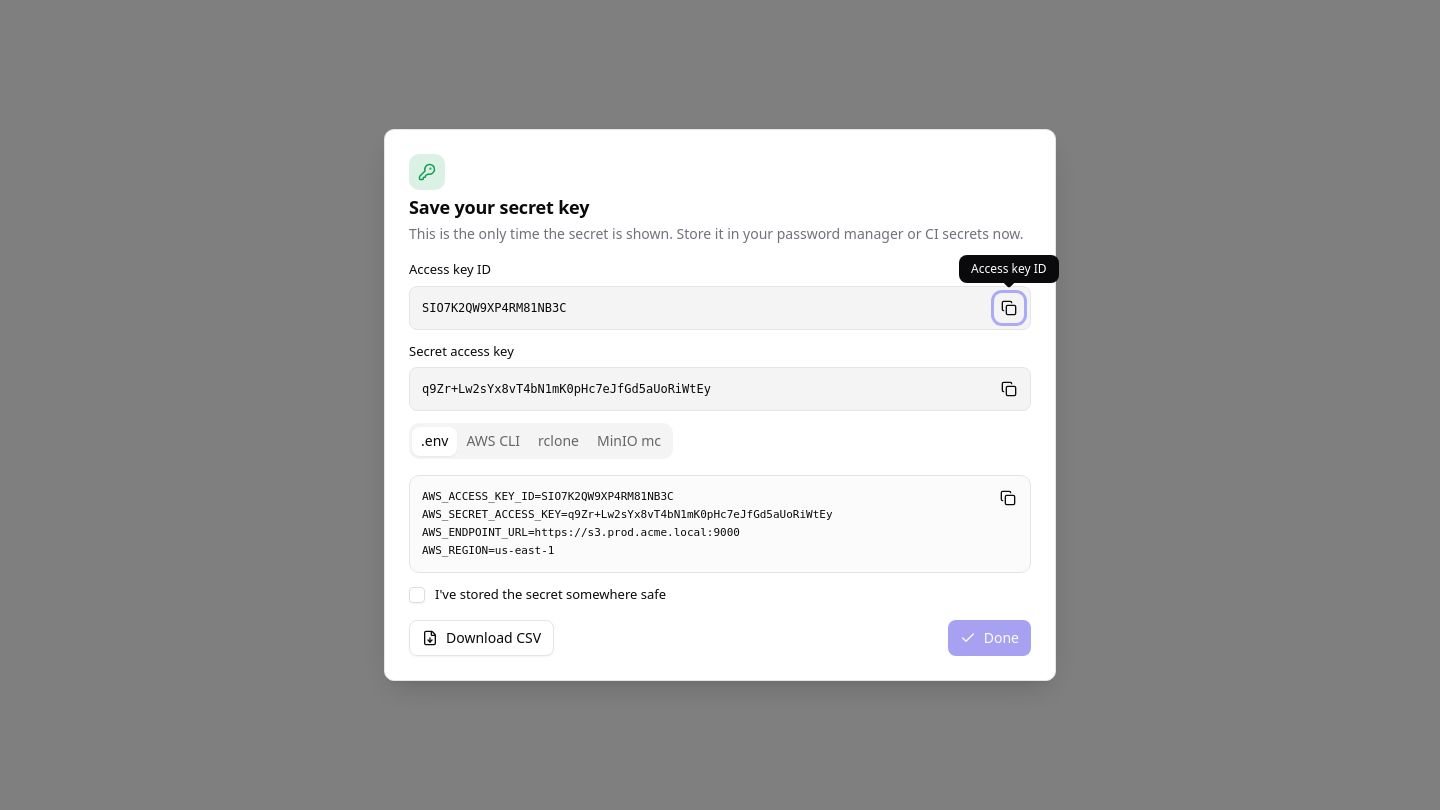
Scenario: SecretRevealDialog › generates a snippet per target, with the real endpoint in it
Expected: the text "AWS_ENDPOINT_URL=https://s3.prod.acme.local:9000" is shown, [422,490,833,557]
Step 1. Click the tab "MinIO mc" → (629, 441), box [588,426,670,456]
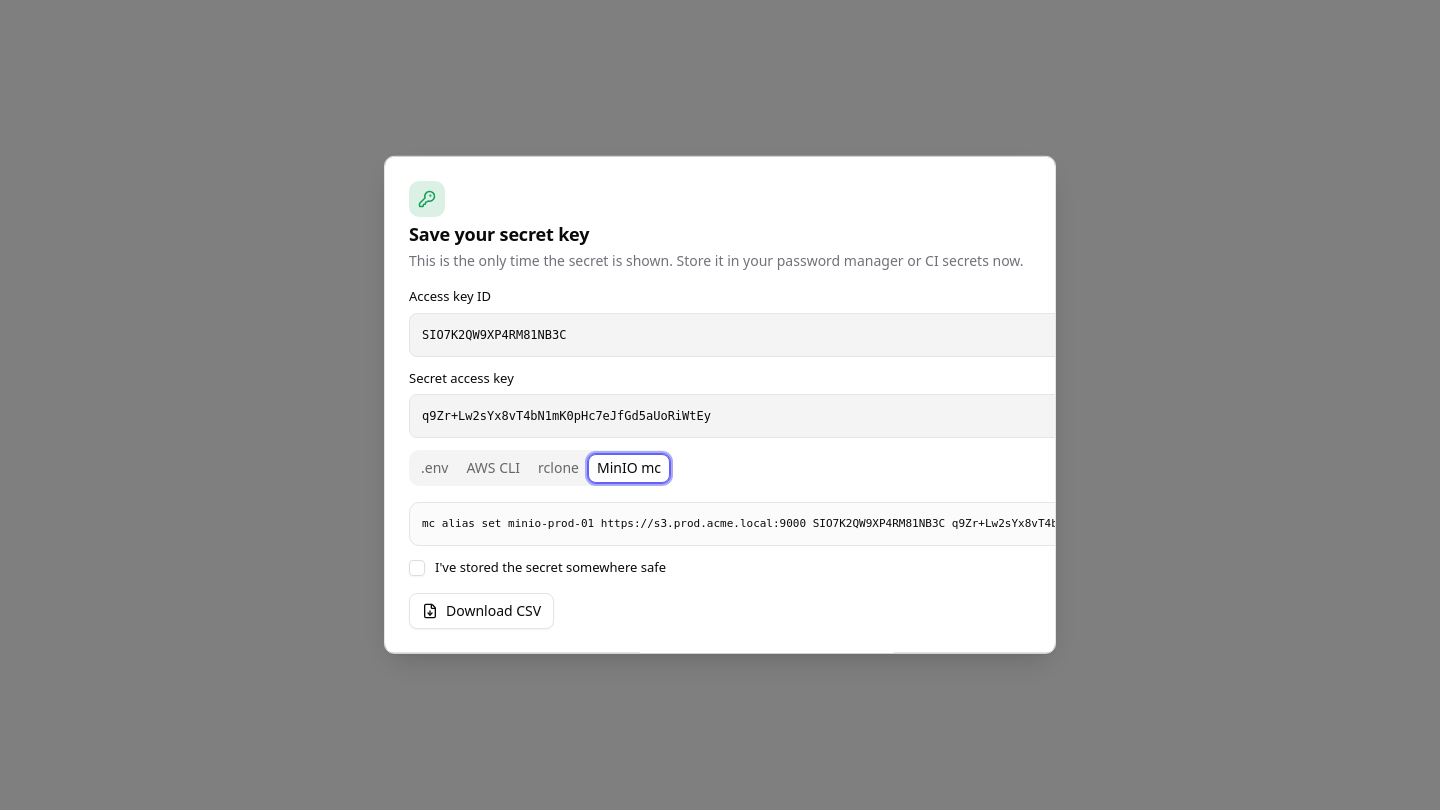
Result: the text "mc alias set minio-prod-01 https://s3.prod.acme.local:9000" is shown at [422,517,1056,530]
